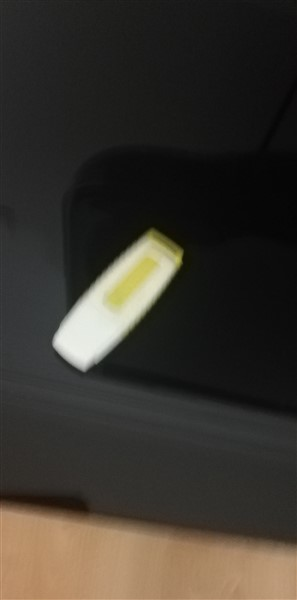flash disk: (48, 227, 198, 381)
